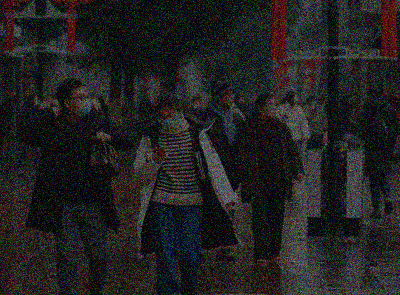with_mask: (73, 92, 92, 118), (158, 112, 181, 130), (192, 99, 202, 111), (291, 92, 300, 105), (311, 97, 320, 108), (34, 96, 41, 108)
without_mask: (263, 100, 279, 120), (221, 90, 236, 108)
